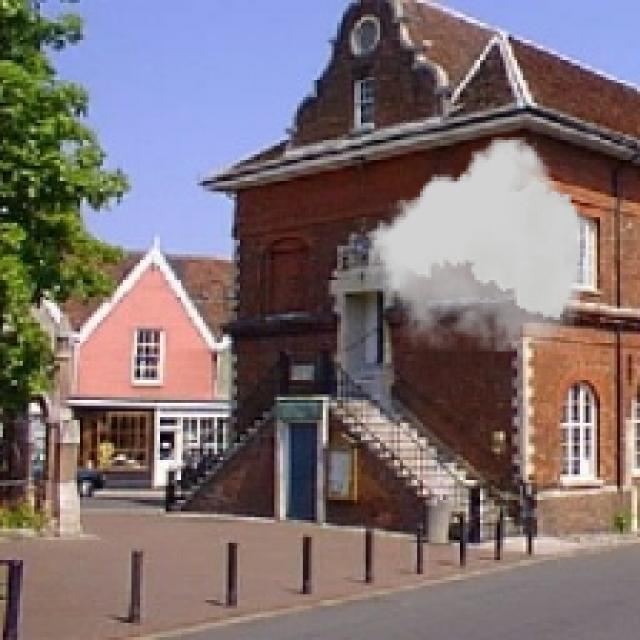smoke: (368, 137, 592, 352)
